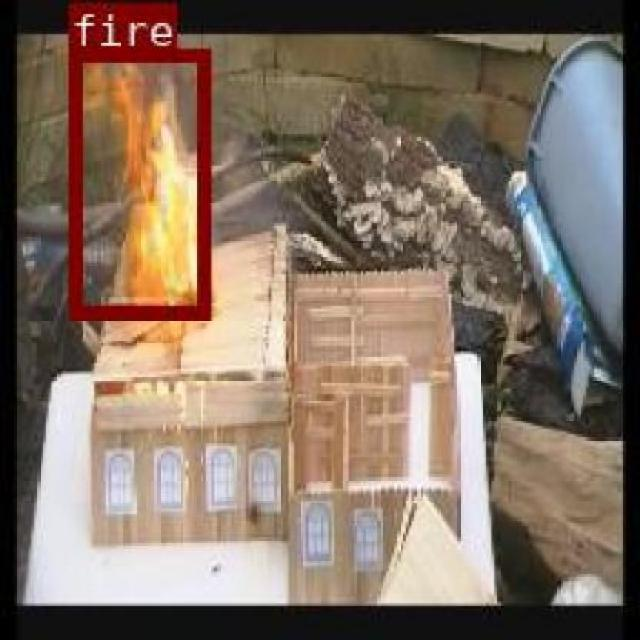Fire: (66, 48, 208, 317)
